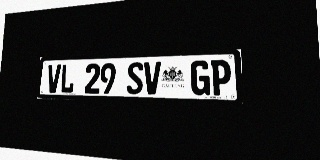2: (85, 63, 100, 94)
9: (100, 63, 116, 94)
G: (191, 60, 210, 95)
L: (60, 64, 75, 93)
P: (211, 59, 231, 96)
S: (126, 62, 144, 94)
V: (143, 61, 161, 95), (46, 64, 61, 93)
